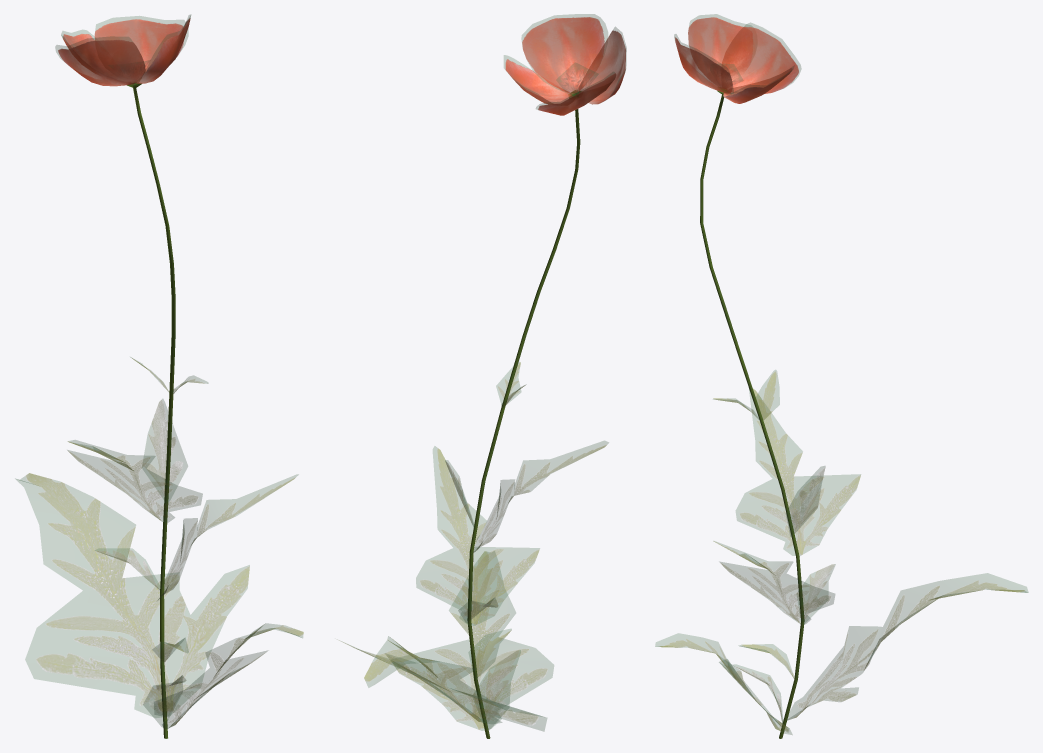
File: preview.glb
3 renders of one model, left to right at view 1: azimuth 30°, elevation 25°; view 2: azimuth 150°, elevation 25°; view 3: azimuth 270°, elevation 25°, orthographic. The views are drawn at different scales.
Parts seen in each view (by area): view 1: Flower_Papaver_rhoeas_E_Flower_glb, Flower_Papaver_rhoeas_E_Stem_glb; view 2: Flower_Papaver_rhoeas_E_Flower_glb, Flower_Papaver_rhoeas_E_Stem_glb; view 3: Flower_Papaver_rhoeas_E_Flower_glb, Flower_Papaver_rhoeas_E_Stem_glb.
Part boxes in pixels (x1,y1,x2,y2): Flower_Papaver_rhoeas_E_Flower_glb: [15, 14, 303, 728]; Flower_Papaver_rhoeas_E_Stem_glb: [127, 83, 175, 738]; Flower_Papaver_rhoeas_E_Flower_glb: [339, 14, 626, 731]; Flower_Papaver_rhoeas_E_Stem_glb: [467, 90, 581, 738]; Flower_Papaver_rhoeas_E_Flower_glb: [655, 14, 1028, 734]; Flower_Papaver_rhoeas_E_Stem_glb: [700, 89, 804, 738].
Bounding box in the file's own units: 0.1402 × 0.4028 × 0.2009.
2 materials, 2 textured.
